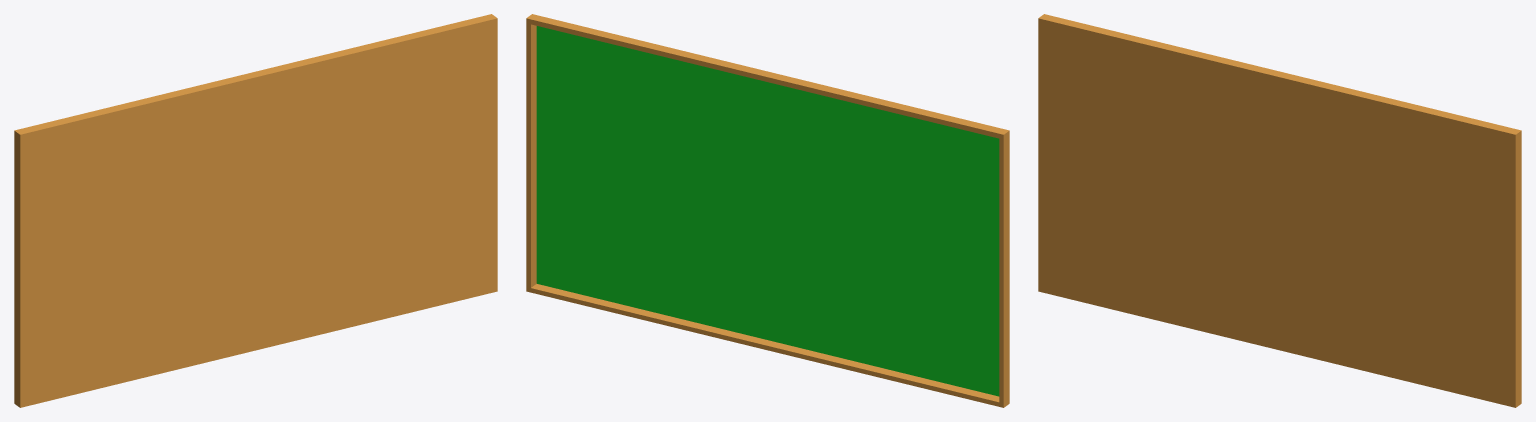
The model's file is corcho.fbx.
The picture shows the model from 3 angles, left to right: view 1: azimuth 30°, elevation 25°; view 2: azimuth 150°, elevation 25°; view 3: azimuth 330°, elevation 25°; orthographic projection.
Parts seen in each view (by area): view 1: Cube.006; view 2: Cube.006; view 3: Cube.006.
Part boxes in pixels (x1,y1,x2,y2): Cube.006: (14,14,497,407); Cube.006: (526,14,1009,407); Cube.006: (1038,14,1521,407).
Size of the model in its own units: 366 by 200 by 7.84.
